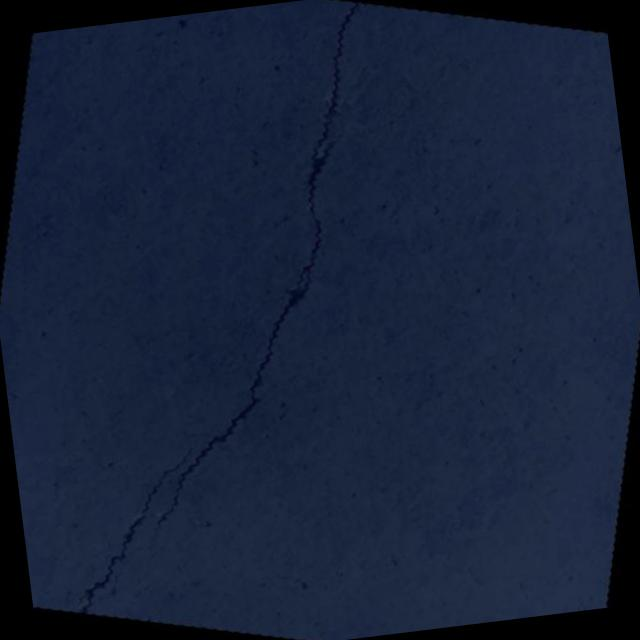crack: (63, 0, 430, 598), (54, 409, 223, 636), (138, 466, 164, 496)
